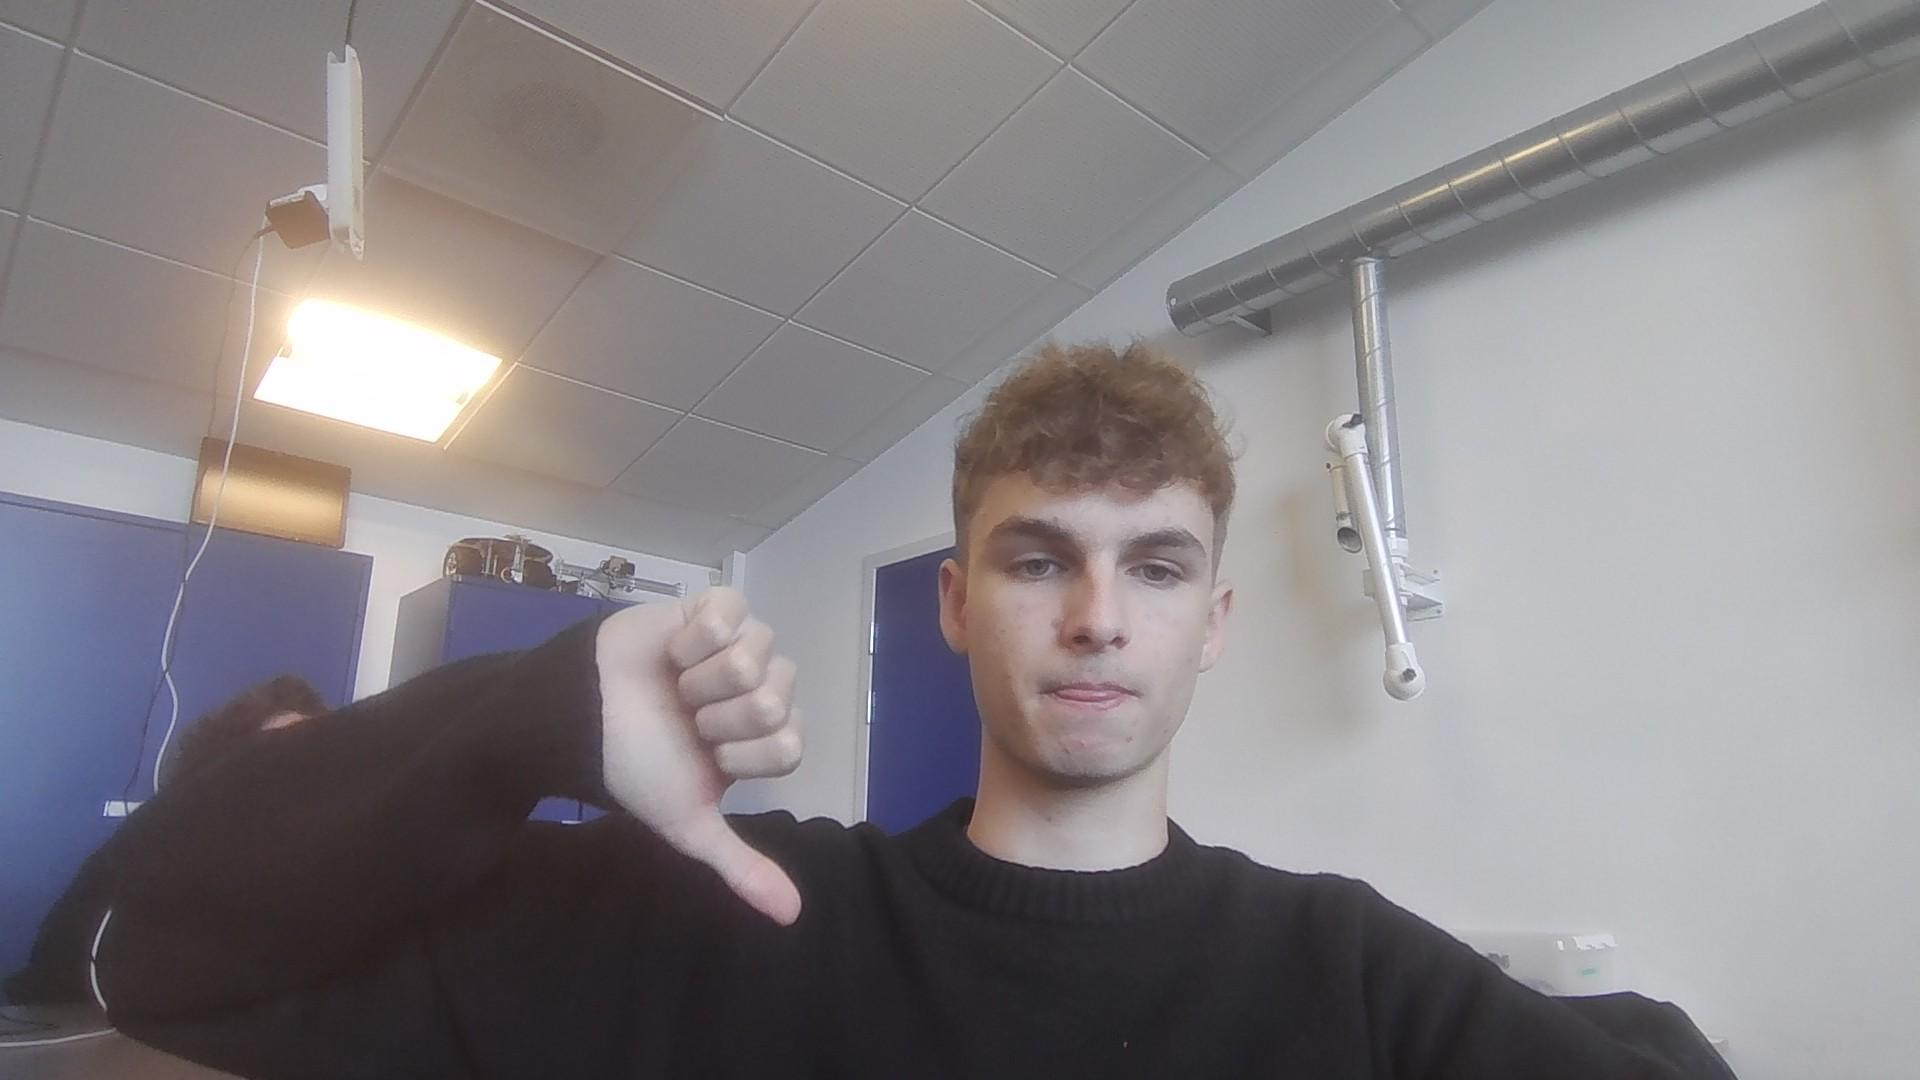thumbs down: (572, 576, 815, 947)
